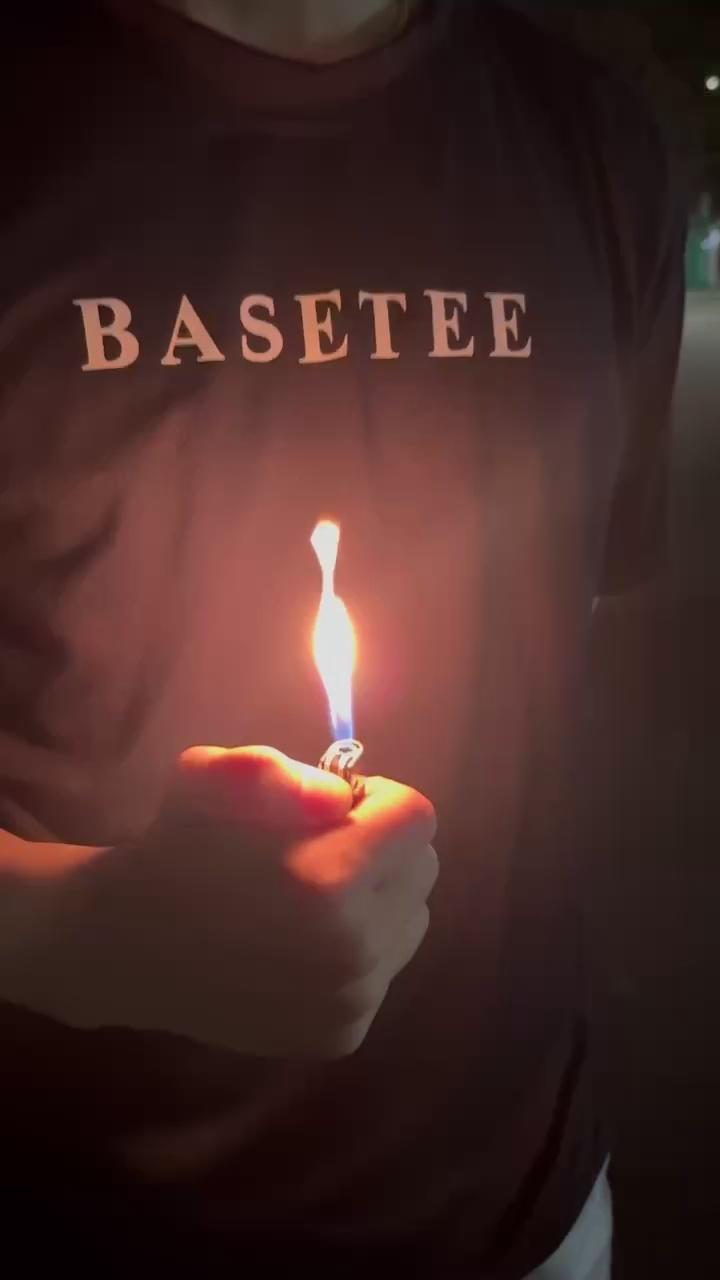Fire: (315, 545, 380, 762)
